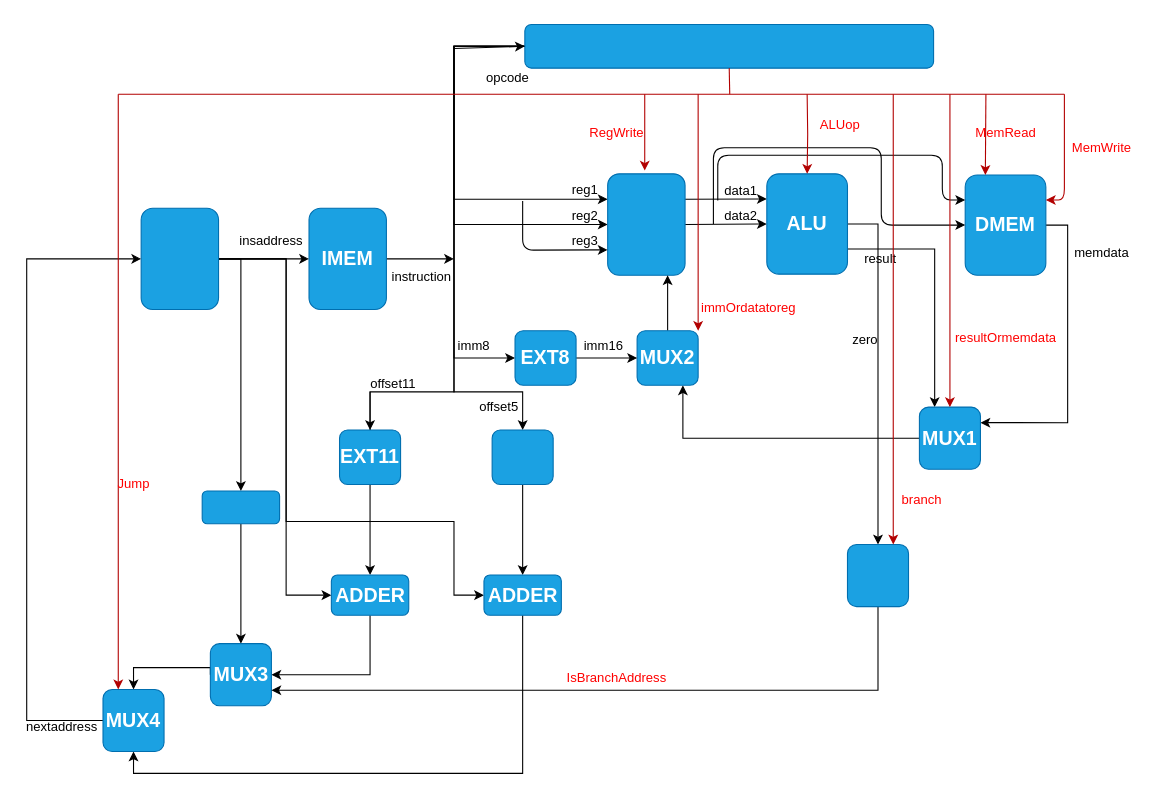
The diagram is 1154 pixels wide and 801 high, and some of its shapes have lost their labels. The shapes that lost their labels are listed below. From the top down, each one's box as (x1, y1, x2, y2) in pixels, then its label:
(524, 23, 934, 68): DECODER
(607, 173, 685, 275): RG
(140, 207, 219, 310): PC
(491, 429, 553, 485): EXT5
(201, 490, 280, 524): PLUS
(846, 543, 909, 607): AND
